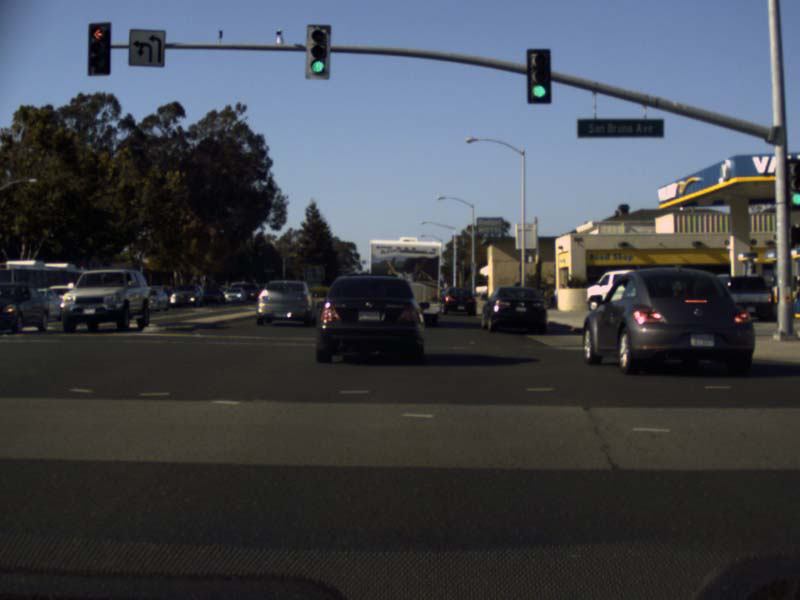Green: (525, 48, 550, 103), (306, 22, 329, 78)
Red: (87, 23, 108, 74)
